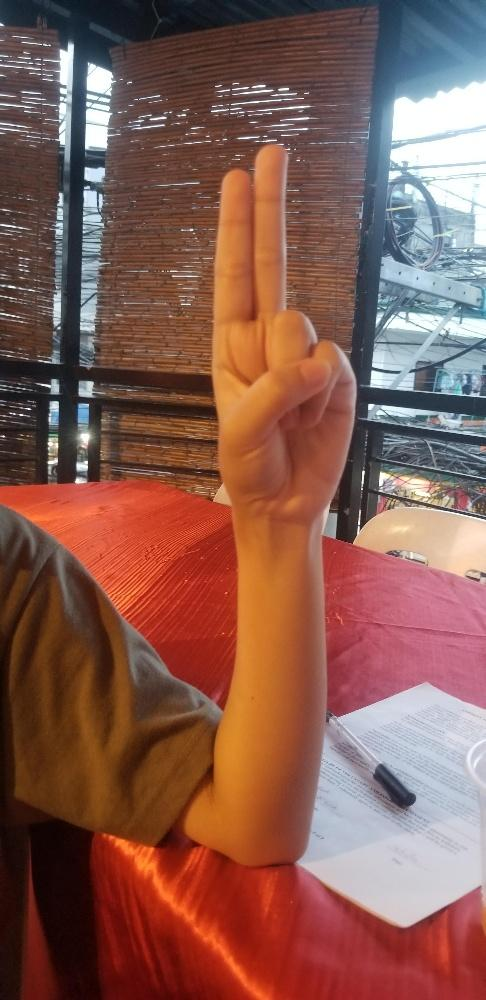u: (208, 143, 356, 509)
